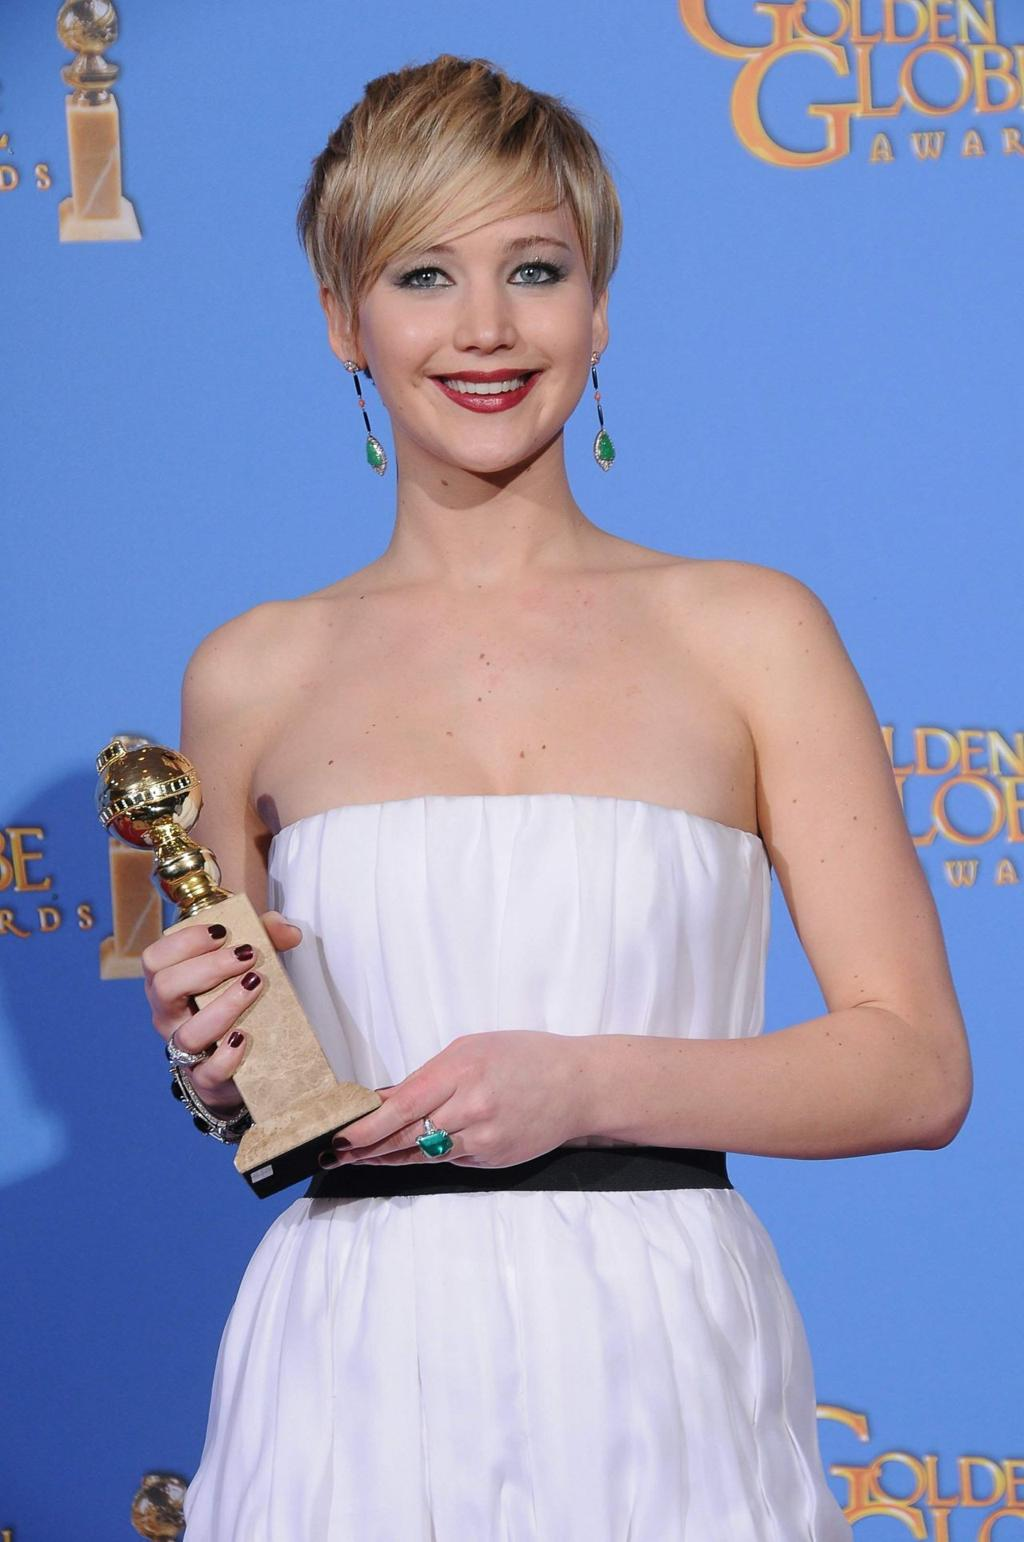face: (359, 121, 594, 479)
